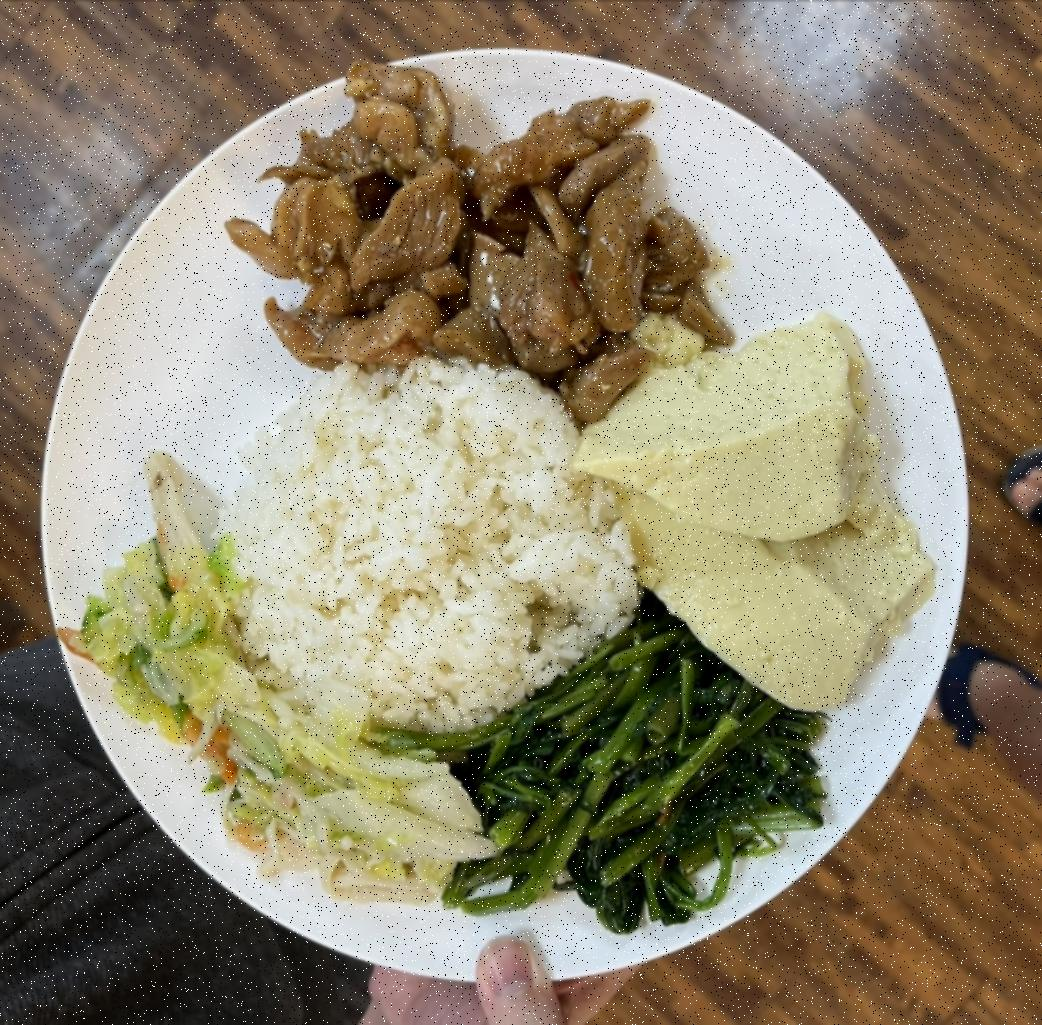plate: (17, 40, 982, 990)
side dish: (58, 526, 486, 910), (616, 328, 932, 692), (472, 616, 824, 940)
three cup chicken: (232, 64, 712, 410)
white rice: (222, 361, 639, 738)
